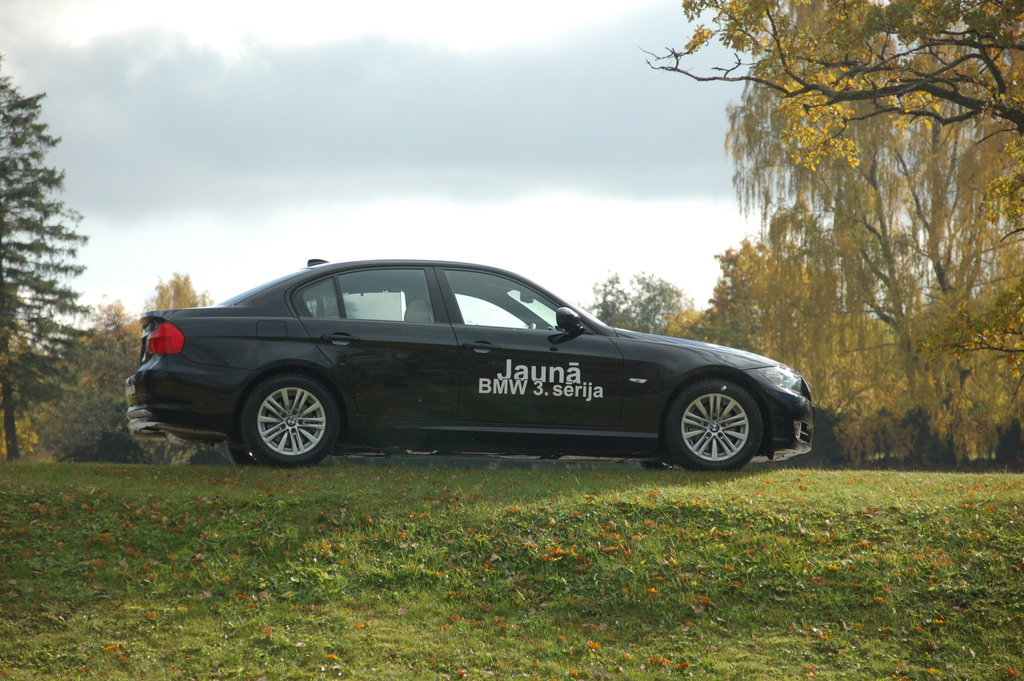mobil: (105, 256, 819, 473)
